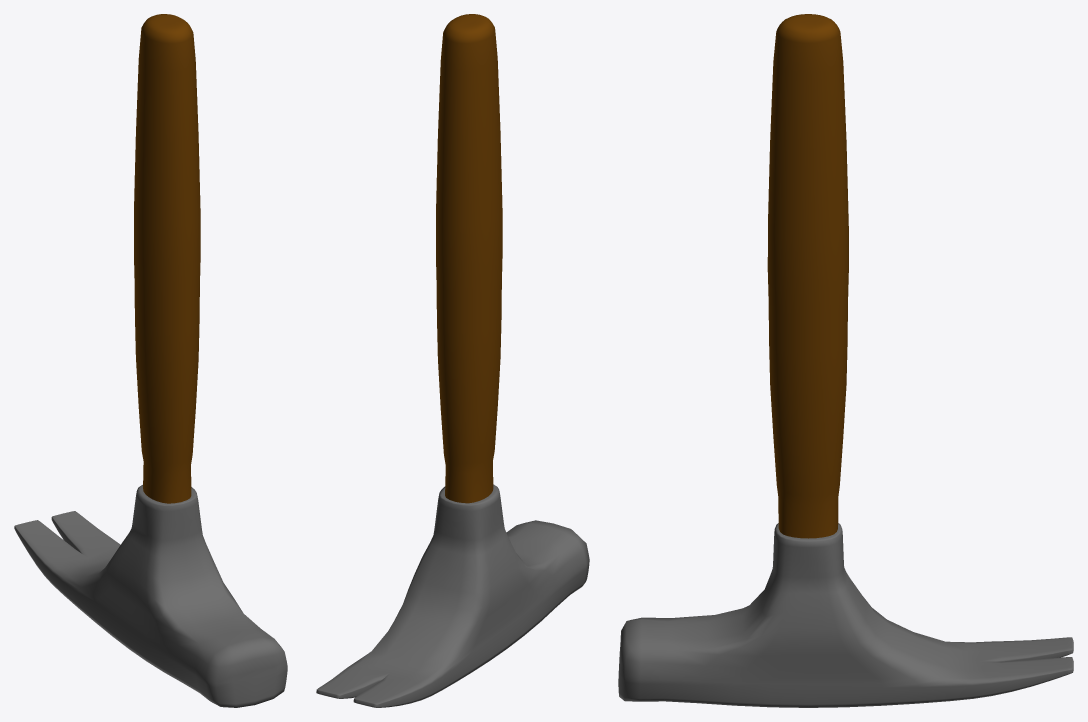
Rendered from hammer.fbx.
3 views of the same model, side by side, from view 1: azimuth 30°, elevation 25°; view 2: azimuth 150°, elevation 25°; view 3: azimuth 270°, elevation 25° (orthographic). The views are drawn at different scales.
Visible parts, largest first — view 1: polySurface1, polySurface2; view 2: polySurface2, polySurface1; view 3: polySurface1, polySurface2.
Part boxes in pixels (x1=…): polySurface1: x1=14, y1=485, x2=287, y2=707; polySurface2: x1=134, y1=14, x2=200, y2=503; polySurface2: x1=436, y1=14, x2=502, y2=503; polySurface1: x1=316, y1=484, x2=589, y2=707; polySurface1: x1=618, y1=523, x2=1073, y2=707; polySurface2: x1=767, y1=14, x2=848, y2=538.
Size of the model in its own units: 5.45 by 41 by 25.29.
